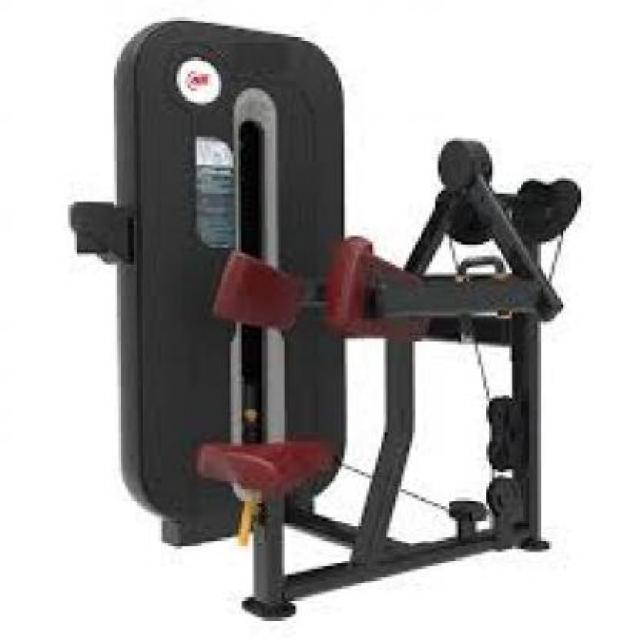lateral raises machine: (202, 137, 580, 625)
